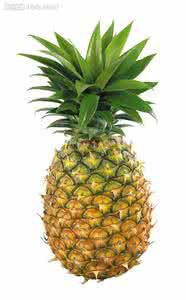pineapple: (26, 26, 165, 284)
